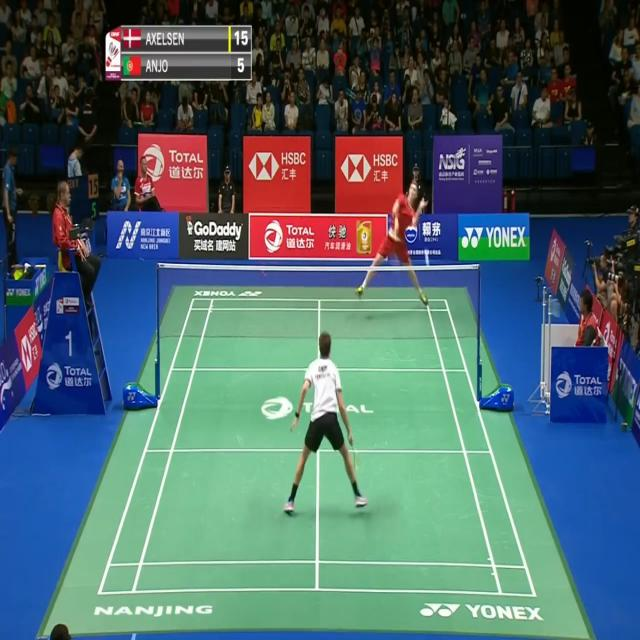Player1: (283, 321, 371, 523)
Player2: (354, 168, 436, 322)
